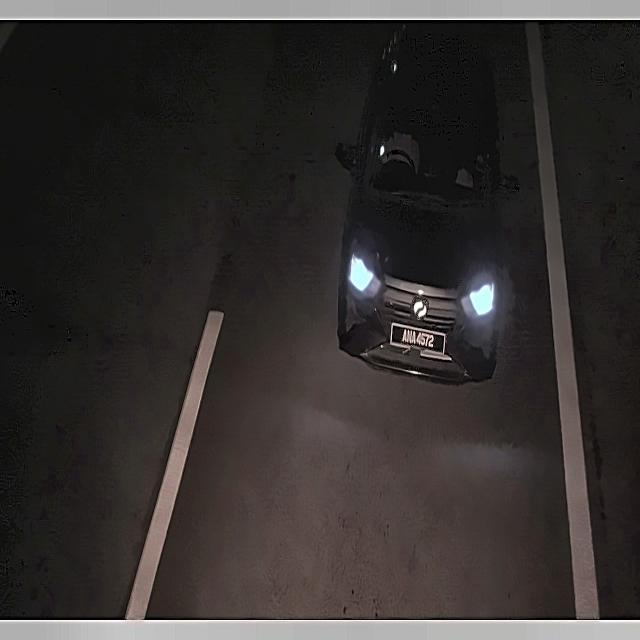car: (393, 307, 441, 363)
